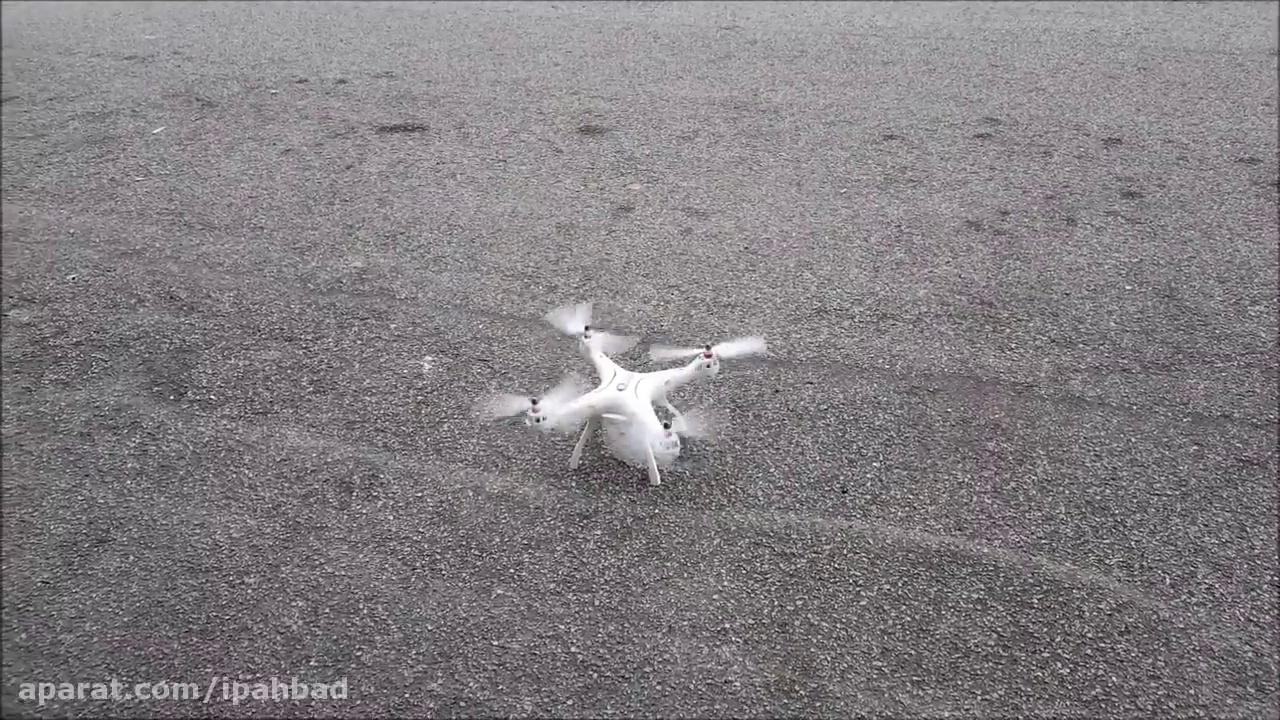drone: (473, 298, 769, 480)
